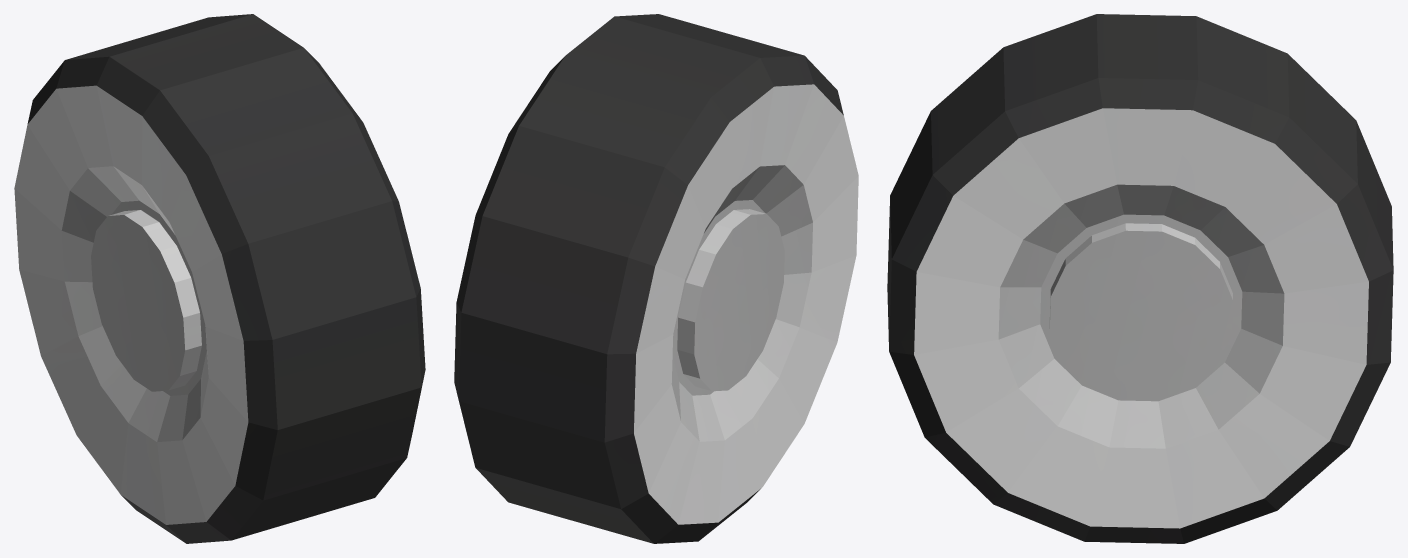
File: scooterdeadllanta.obj
The picture shows the model from 3 angles, left to right: view 1: azimuth 30°, elevation 25°; view 2: azimuth 150°, elevation 25°; view 3: azimuth 270°, elevation 25°; orthographic projection.
Visible parts, largest first — view 1: G_Scooter_FWheel_Malla.004; view 2: G_Scooter_FWheel_Malla.004; view 3: G_Scooter_FWheel_Malla.004.
Boxes of the visible parts, x1,y1,x2,y2 form: G_Scooter_FWheel_Malla.004: (14,14,425,543); G_Scooter_FWheel_Malla.004: (454,14,858,543); G_Scooter_FWheel_Malla.004: (887,14,1393,543).
Size of the model in its own units: 0.1567 by 0.3522 by 0.3485.
